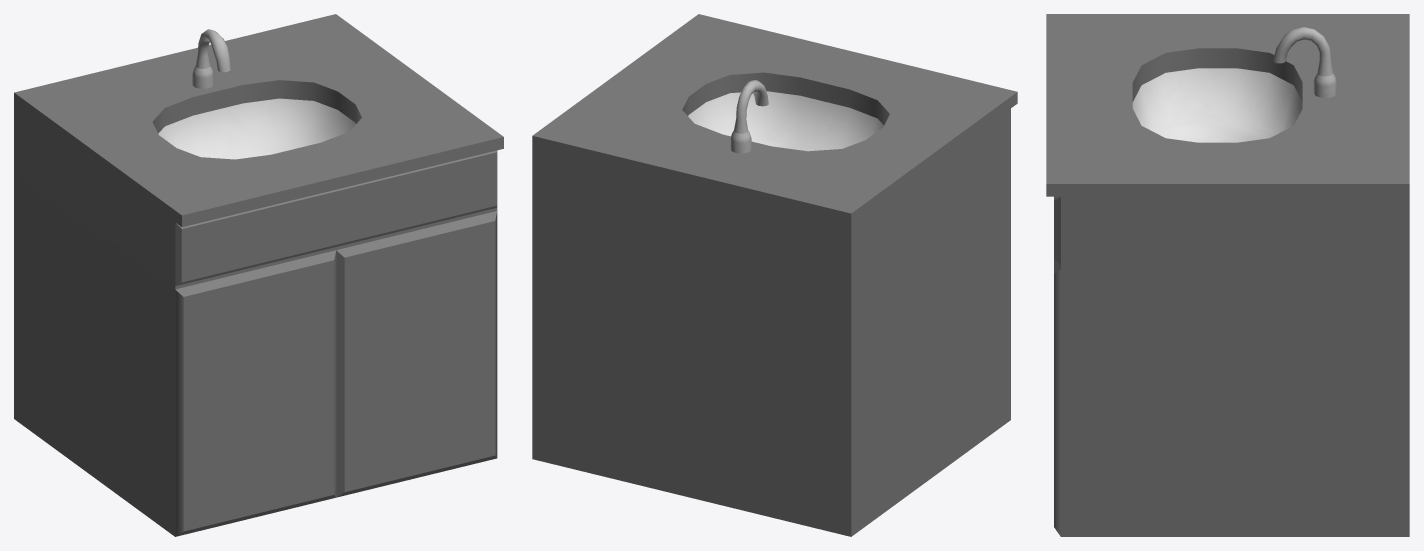
Rendered from Sink.fbx.
3 views of the same model, side by side, from view 1: azimuth 30°, elevation 25°; view 2: azimuth 150°, elevation 25°; view 3: azimuth 270°, elevation 25° (orthographic). The views are drawn at different scales.
Visible parts, largest first — view 1: propSink; view 2: propSink; view 3: propSink.
Boxes of the visible parts, x1,y1,x2,y2 form: propSink: [14, 14, 503, 536]; propSink: [532, 14, 1017, 536]; propSink: [1046, 14, 1409, 536].
Bounding box in the file's own units: 91.77 × 106 × 82.93.
4 materials, 2 textured.
